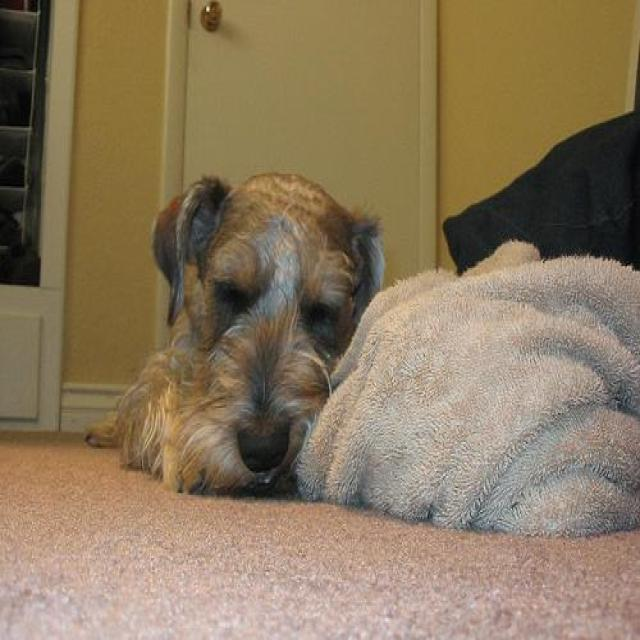standard_schnauzer: (92, 174, 384, 486)
